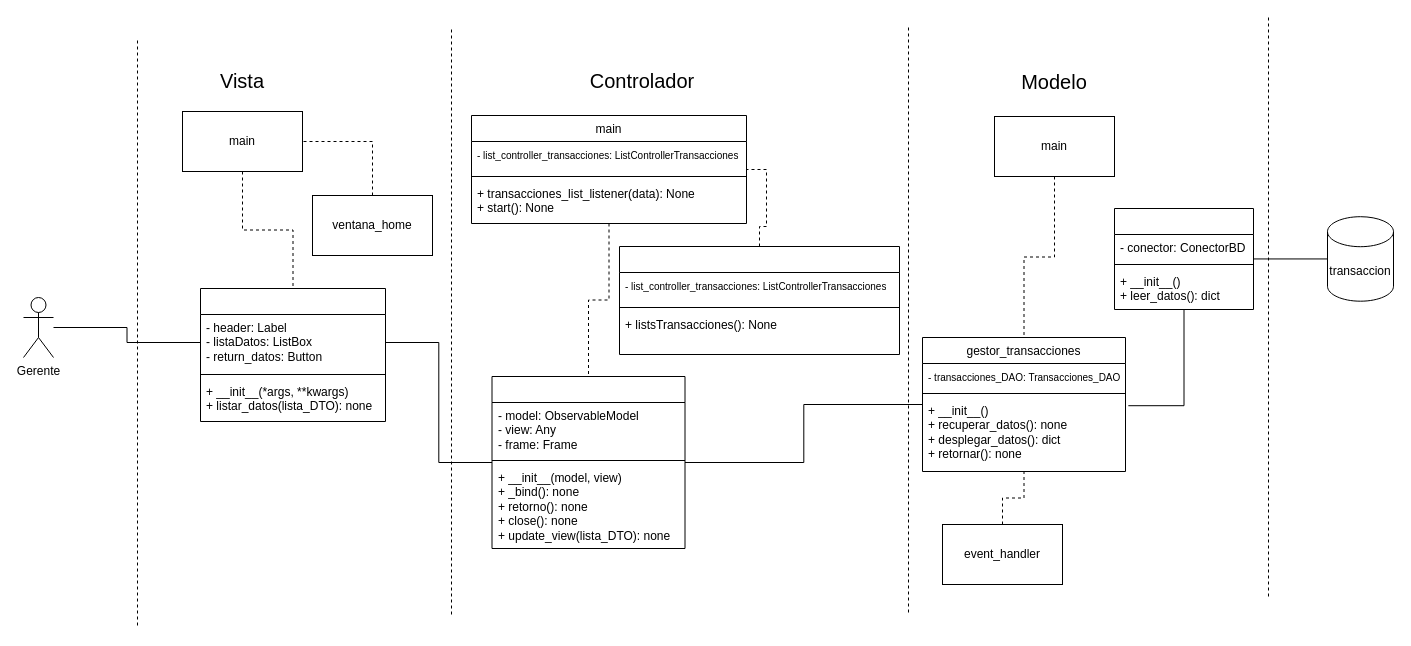
The diagram is 1411 pixels wide and 646 high, and some of its shapes have lost their labels. The shapes that lost their labels are listed below. From the top down, each one's box as (x1, y1, x2, y2) in pixels, then its label:
(1114, 208, 1254, 310): transacciones_DAO
(618, 246, 900, 354): home_menu
(200, 288, 386, 422): ventana_list_transacciones
(491, 376, 685, 548): list_transacciones
